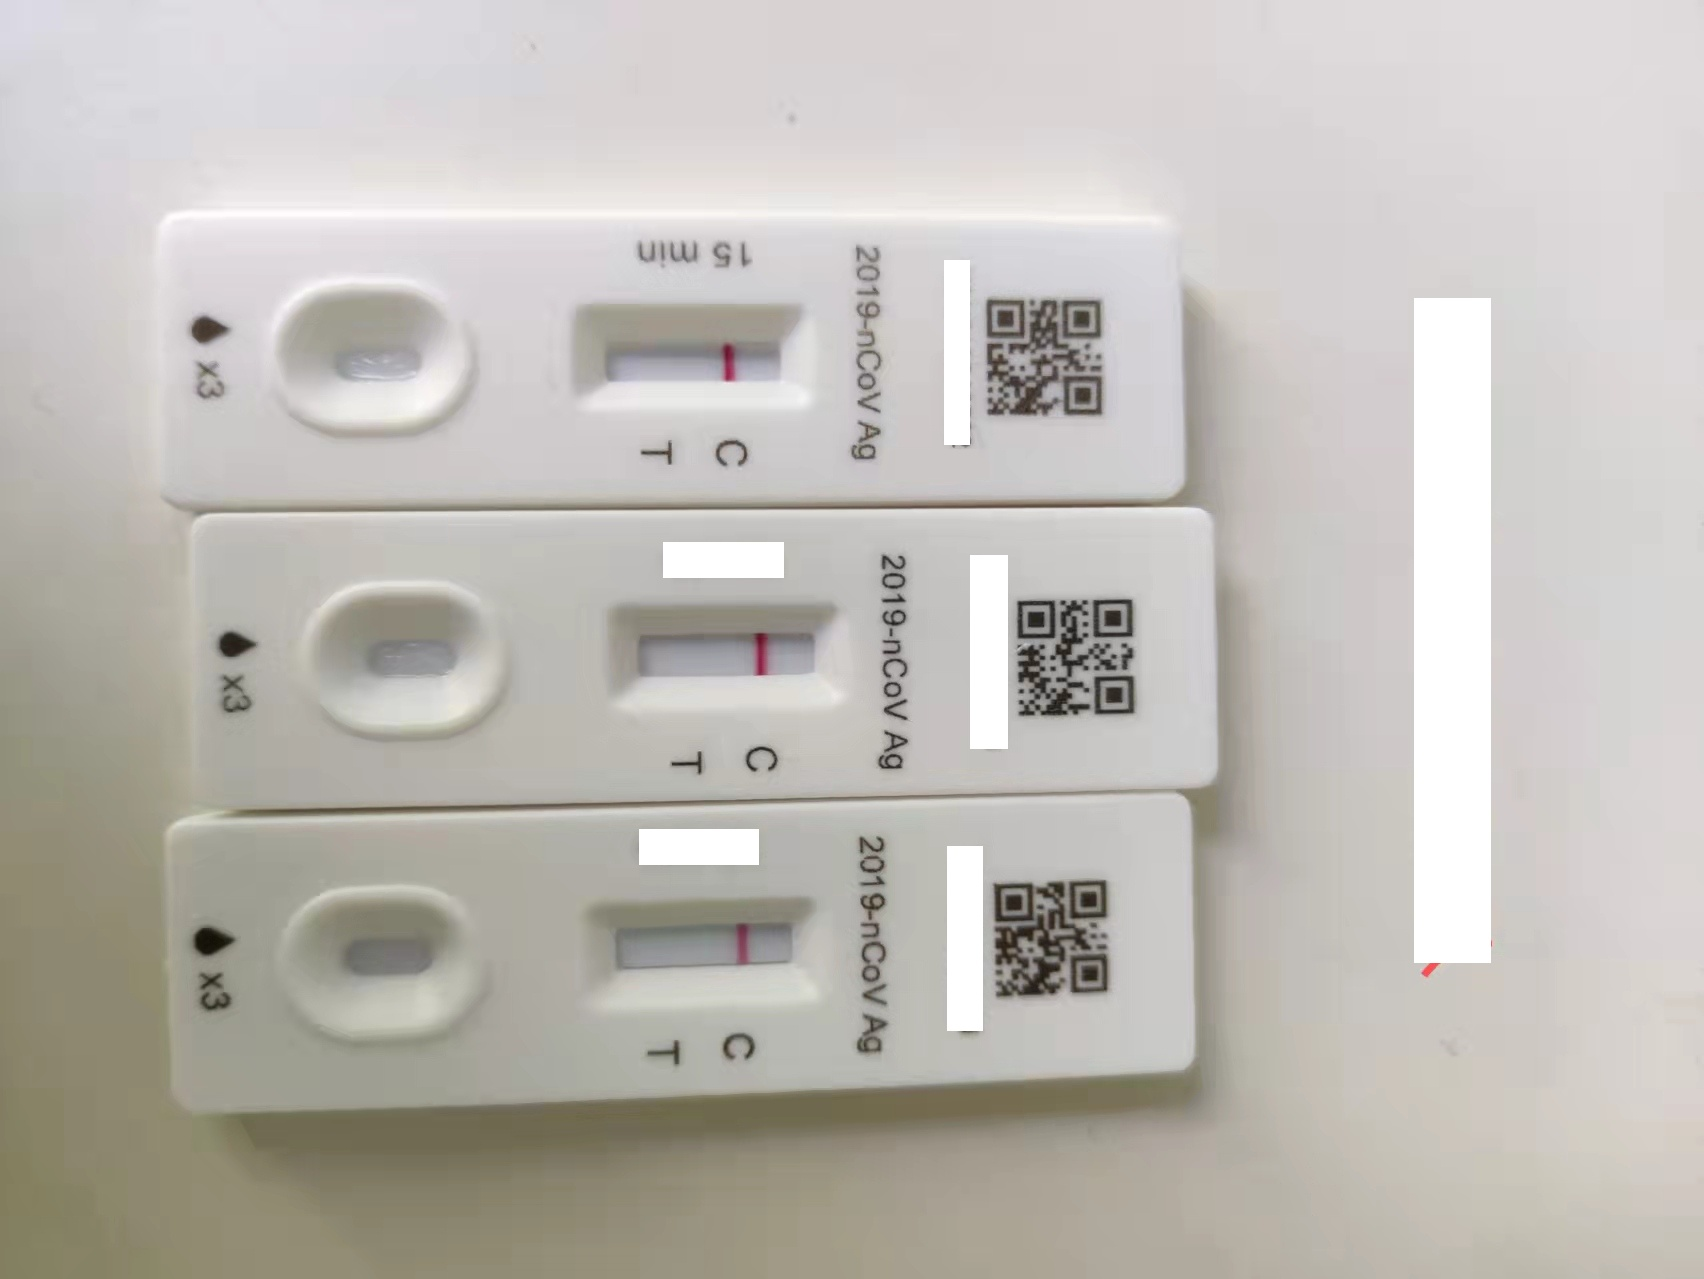negative: (559, 302, 829, 416), (602, 602, 853, 717), (585, 900, 827, 1004)
